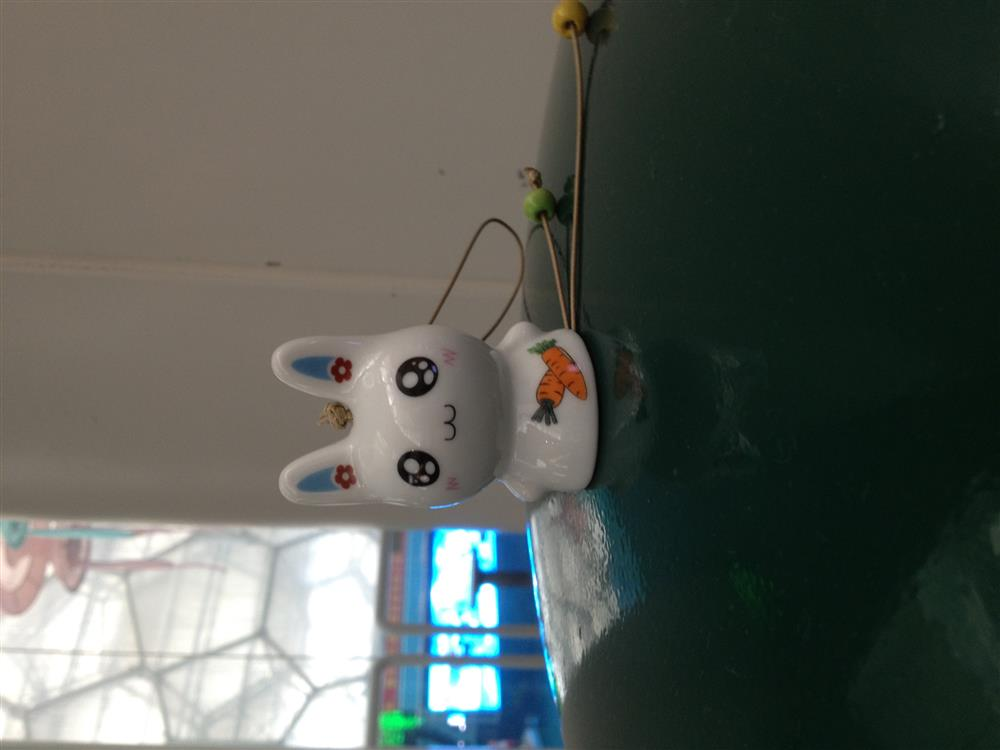porcelain_cat: (241, 305, 596, 511)
